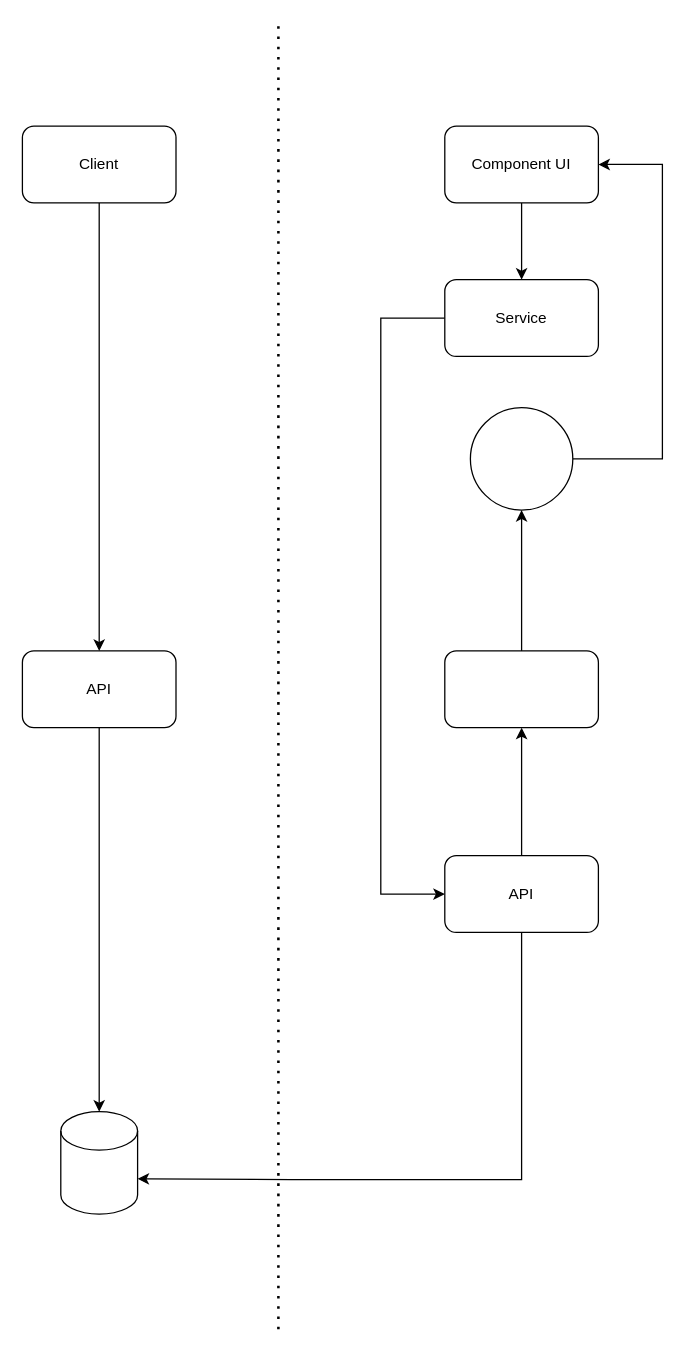
Some shapes in this 695 by 1353 pixel diagram are drawn without their labels. Each missing label, with the centre of its shape:
DB: the point at 99,1162
DTOs Convert: the point at 521,689
Store: the point at 521,458
